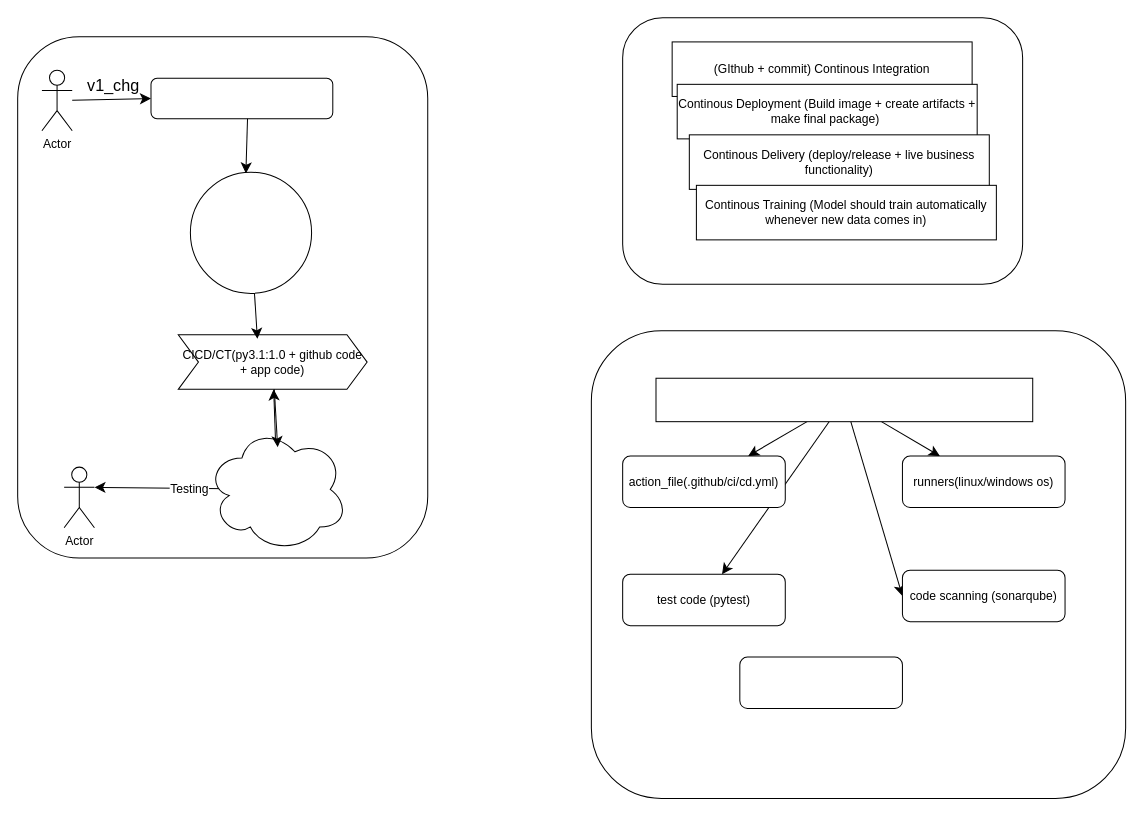
Some shapes in this 1143 by 816 pixel diagram are drawn without their labels. The centre of each missing label's shape, as x and y in pixels:
App server(rel_v1.0: (x=277, y=489)
App(v1.0): (x=241, y=98)
Docker(image_build) py3.1:1.0: (x=250, y=232)
Github actions(CICD tool): (x=844, y=399)
jobs(runnable code): (x=820, y=682)
